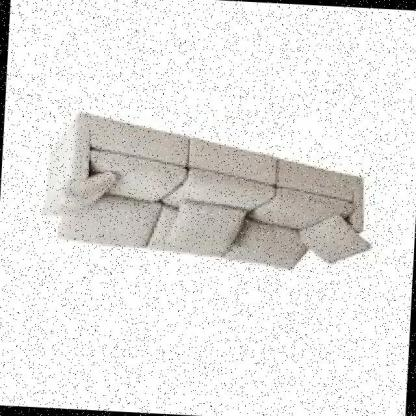Sofa: (30, 90, 392, 278)
